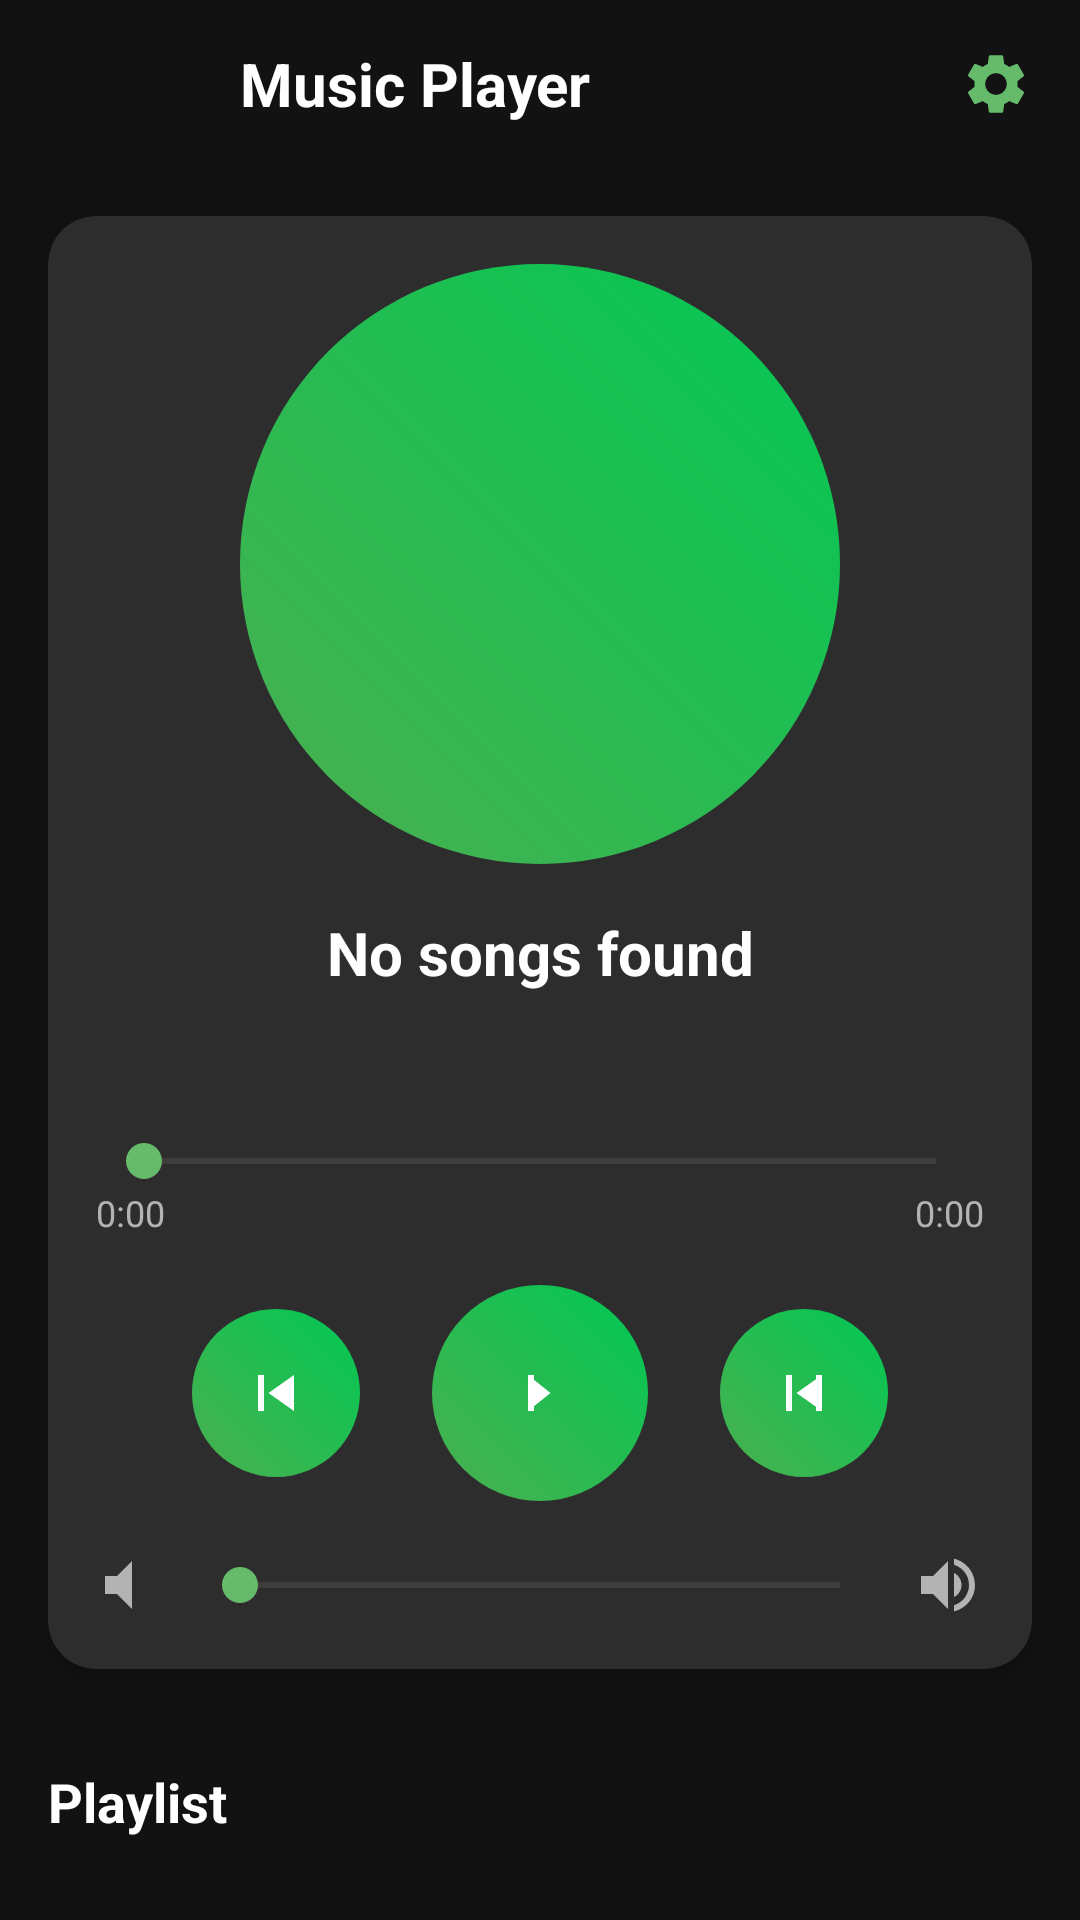

Screen size 1080*1920. Icon name, then its center in pixels as (x=x, y=y):
Play: (x=540, y=1393)
Previous: (x=276, y=1393)
volume high: (x=948, y=1585)
volume low: (x=118, y=1585)
